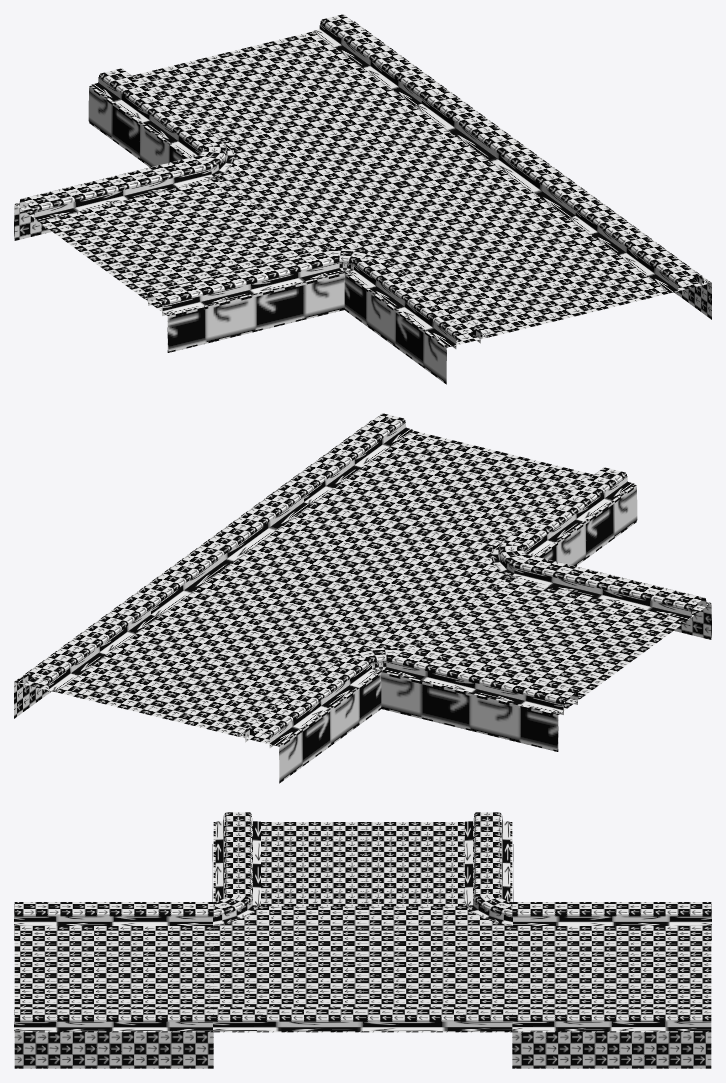
File: 05_kabesasaranend_obj.fbx
3 renders of one model, top to bottom at view 1: azimuth 30°, elevation 25°; view 2: azimuth 150°, elevation 25°; view 3: azimuth 270°, elevation 25°, orthographic. The views are drawn at different scales.
Visible parts, largest first — view 1: _05_kabesasaranend_obj, _05_kabesasaranendao_obj; view 2: _05_kabesasaranend_obj, _05_kabesasaranendao_obj; view 3: _05_kabesasaranend_obj, _05_kabesasaranendao_obj.
Boxes of the visible parts, x1,y1,x2,y2 form: _05_kabesasaranend_obj: [14, 14, 711, 384]; _05_kabesasaranendao_obj: [14, 23, 710, 382]; _05_kabesasaranend_obj: [14, 413, 711, 783]; _05_kabesasaranendao_obj: [16, 420, 711, 781]; _05_kabesasaranend_obj: [14, 812, 711, 1068]; _05_kabesasaranendao_obj: [14, 815, 711, 1031].
Size of the model in its own units: 40 by 4.06 by 56.09.
1 material, 1 textured.
